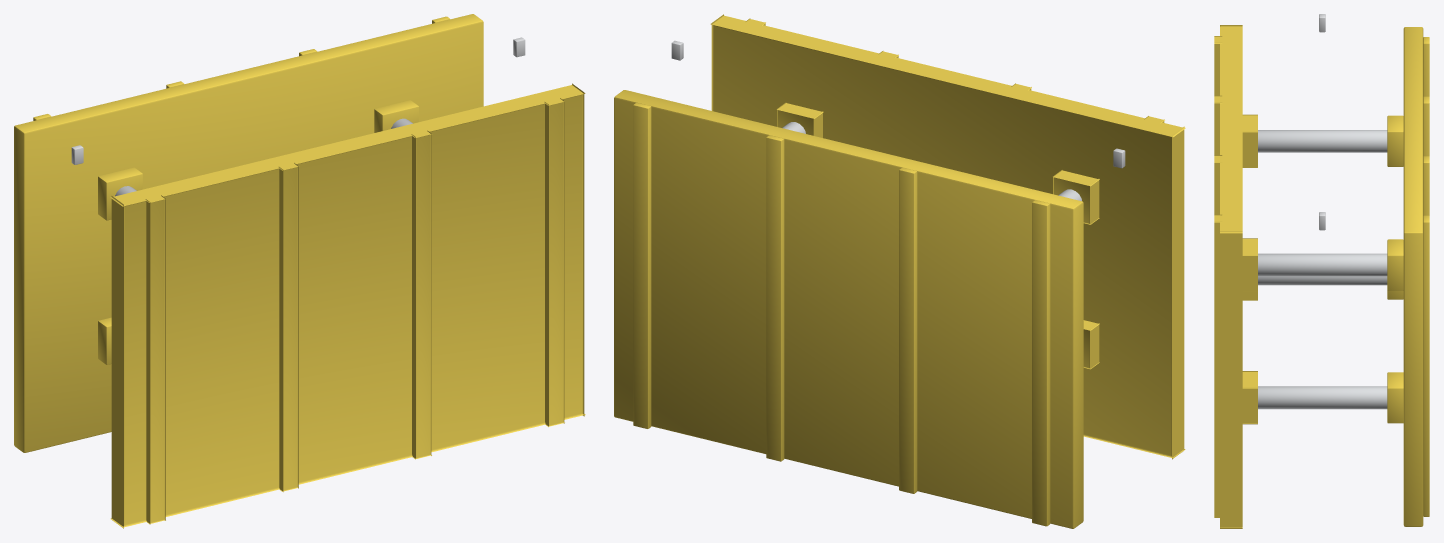
File: TER-ESR-002_lod1.glb
3 renders of one model, left to right at view 1: azimuth 30°, elevation 25°; view 2: azimuth 150°, elevation 25°; view 3: azimuth 270°, elevation 25°, orthographic. The views are drawn at different scales.
Visible parts, largest first — view 1: TER-ESR-002_painel-1, TER-ESR-002_painel1, TER-ESR-002_nervura-10, TER-ESR-002_nervura-12, TER-ESR-002_nervura-13, TER-ESR-002_nervura-11, TER-ESR-002_suporte-0.91.51, TER-ESR-002_suporte0.91.51; view 2: TER-ESR-002_painel1, TER-ESR-002_painel-1, TER-ESR-002_nervura13, TER-ESR-002_nervura10, TER-ESR-002_nervura11, TER-ESR-002_nervura12, TER-ESR-002_suporte-0.91.5-1, TER-ESR-002_suporte0.91.5-1, TER-ESR-002_suporte-0.90.6-1; view 3: TER-ESR-002_painel-1, TER-ESR-002_painel1, TER-ESR-002_estronca0.9_0.6, TER-ESR-002_estronca0.9_1.5, TER-ESR-002_estronca-0.9_1.5, TER-ESR-002_nervura13, TER-ESR-002_nervura-13, TER-ESR-002_estronca-0.9_0.6, TER-ESR-002_suporte0.90.61, TER-ESR-002_suporte0.91.51, TER-ESR-002_suporte-0.91.51, TER-ESR-002_suporte0.91.5-1 (+8 smaller).
Boxes of the visible parts, x1,y1,x2,y2 form: TER-ESR-002_painel-1: (110, 83, 585, 528); TER-ESR-002_painel1: (14, 14, 483, 452); TER-ESR-002_nervura-10: (145, 195, 165, 524); TER-ESR-002_nervura-12: (411, 130, 431, 459); TER-ESR-002_nervura-13: (544, 98, 564, 426); TER-ESR-002_nervura-11: (278, 163, 298, 491); TER-ESR-002_suporte-0.91.51: (98, 167, 142, 220); TER-ESR-002_suporte0.91.51: (374, 100, 418, 132); TER-ESR-002_painel1: (614, 90, 1083, 528); TER-ESR-002_painel-1: (710, 14, 1185, 459); TER-ESR-002_nervura13: (633, 102, 651, 428); TER-ESR-002_nervura10: (1032, 200, 1050, 526); TER-ESR-002_nervura11: (899, 167, 917, 493); TER-ESR-002_nervura12: (766, 135, 784, 461); TER-ESR-002_suporte-0.91.5-1: (1053, 170, 1099, 224); TER-ESR-002_suporte0.91.5-1: (776, 102, 823, 137); TER-ESR-002_suporte-0.90.6-1: (1083, 320, 1099, 369); TER-ESR-002_painel-1: (1220, 25, 1242, 528); TER-ESR-002_painel1: (1403, 27, 1423, 526); TER-ESR-002_estronca0.9_0.6: (1258, 386, 1387, 409); TER-ESR-002_estronca0.9_1.5: (1258, 253, 1387, 276); TER-ESR-002_estronca-0.9_1.5: (1258, 130, 1387, 152); TER-ESR-002_nervura13: (1423, 215, 1429, 516); TER-ESR-002_nervura-13: (1214, 214, 1222, 517); TER-ESR-002_estronca-0.9_0.6: (1258, 276, 1387, 285); TER-ESR-002_suporte0.90.61: (1387, 372, 1403, 423); TER-ESR-002_suporte0.91.51: (1387, 239, 1403, 290); TER-ESR-002_suporte-0.91.51: (1387, 115, 1403, 166); TER-ESR-002_suporte0.91.5-1: (1242, 238, 1257, 291).
Size of the model in its own units: 3.02 by 2.11 by 1.33.
